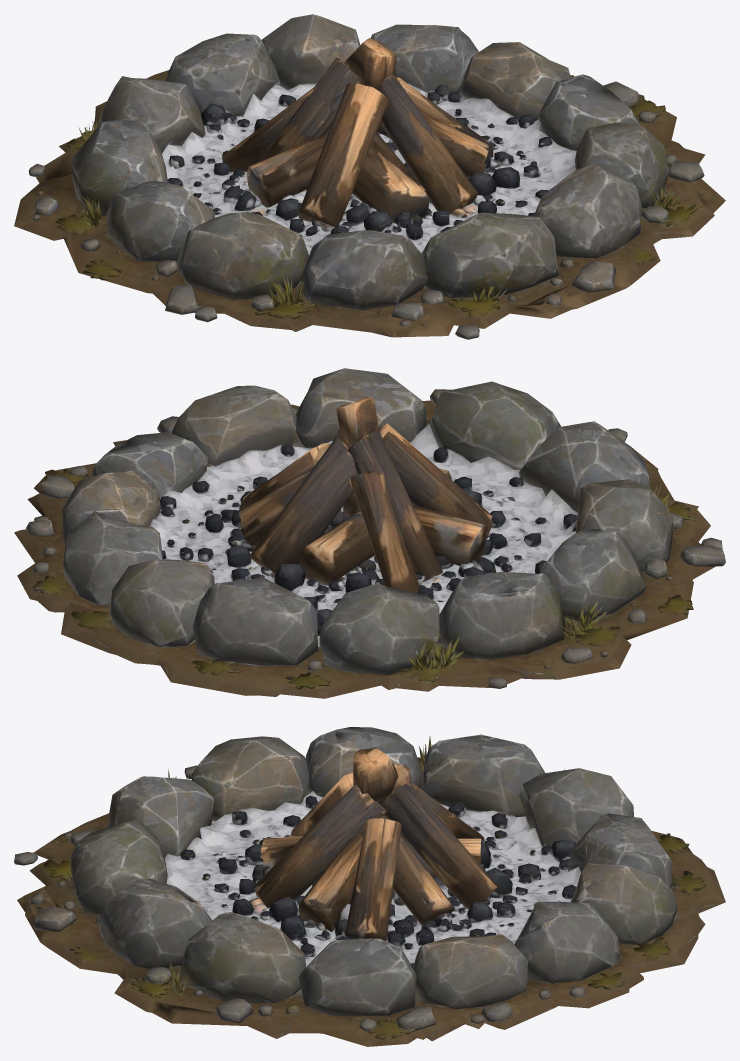
Rendered from campfire.glb.
3 renders of one model, top to bottom at view 1: azimuth 30°, elevation 25°; view 2: azimuth 150°, elevation 25°; view 3: azimuth 270°, elevation 25°, orthographic. The views are drawn at different scales.
Visible parts, largest first — view 1: Stone campfire · canonical metres; view 2: Stone campfire · canonical metres; view 3: Stone campfire · canonical metres.
Part boxes in pixels (bbox=[...]): Stone campfire · canonical metres: bbox=[14, 14, 725, 339]; Stone campfire · canonical metres: bbox=[14, 368, 725, 698]; Stone campfire · canonical metres: bbox=[14, 727, 725, 1046].
Bounding box in the file's own units: 3.2 × 0.7501 × 3.23.
Materials: 1 (1 with a texture image).
